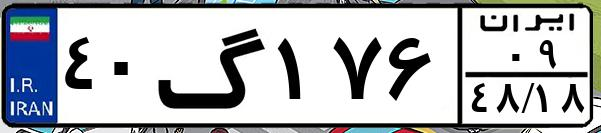0: (110, 28, 156, 98), (508, 27, 537, 80)
1: (270, 28, 330, 110), (535, 70, 560, 125)
4: (57, 26, 110, 100), (470, 70, 495, 125)
6: (385, 28, 445, 110)
7: (330, 28, 385, 110)
8: (560, 70, 590, 125), (495, 70, 520, 125)
9: (537, 27, 568, 80)
گ: (156, 12, 270, 120)
